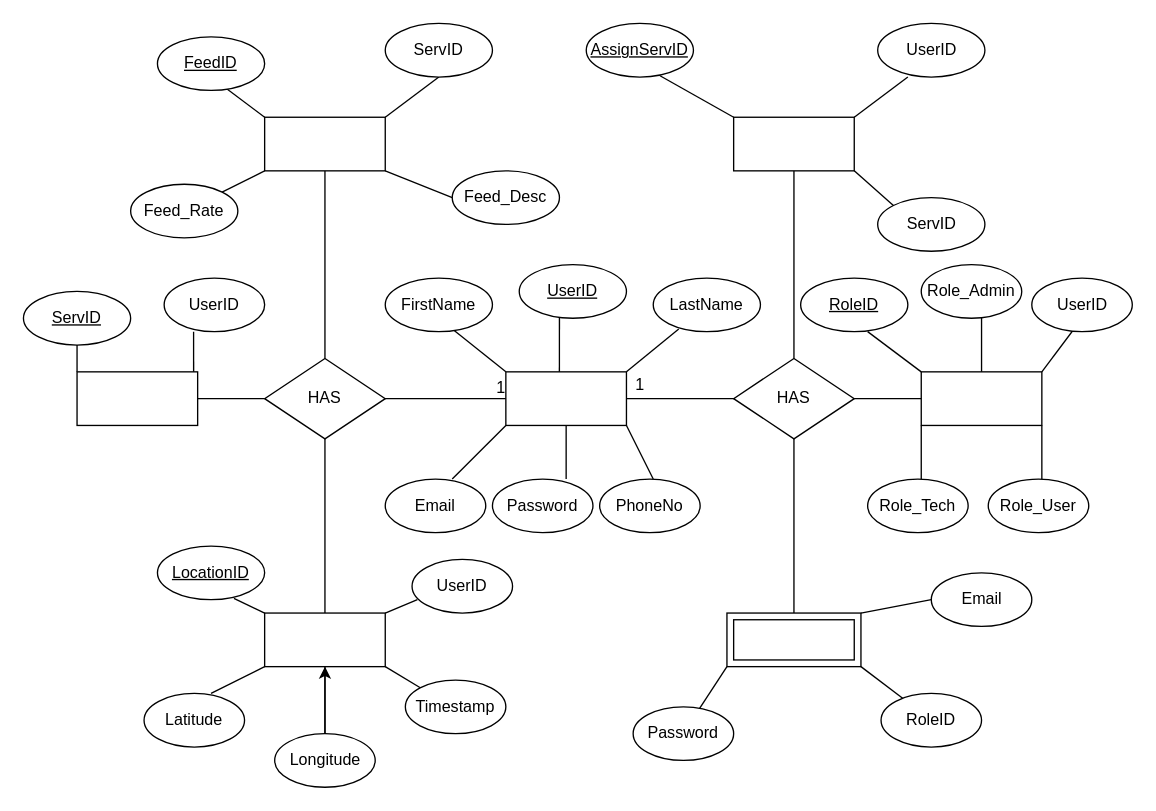
Image size: 1156x811. Some labels were removed from this diagram. The box of each missing label's shape, as (x1, y1, x2, y2) in pixels:
AssignServices: (732, 116, 854, 171)
Feedback: (263, 116, 385, 171)
Location: (263, 612, 385, 667)
Login: (726, 612, 861, 667)
Role: (920, 371, 1042, 425)
Services: (76, 371, 198, 425)
UserReg: (505, 371, 626, 425)
